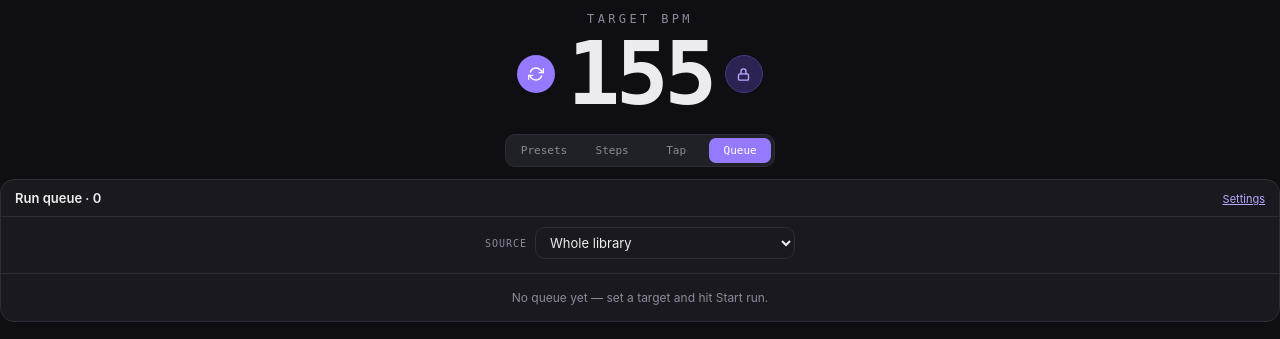
Test case: Run — the queue header reports the limit the queue was built under › shows 'built for N BPM · max ±X%' from the build response
Step 1. Click the button named "Start run" → (536, 74), box [517,55,555,93]
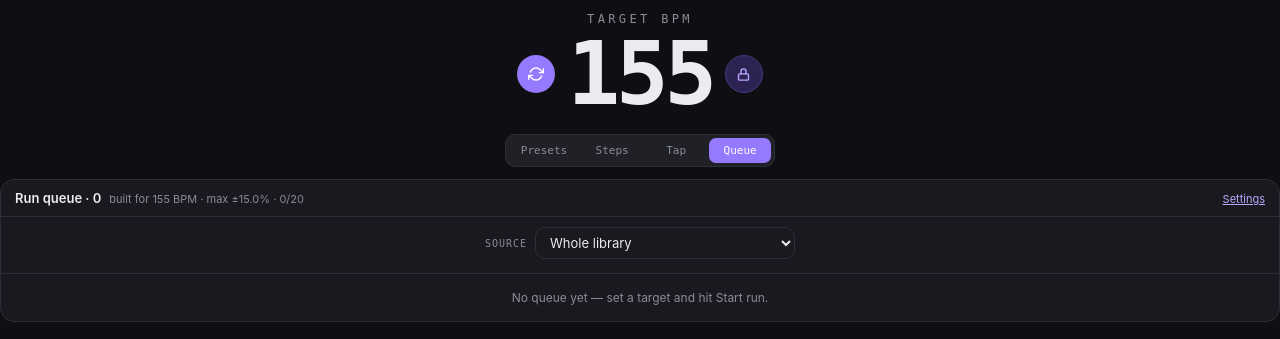
Expected: the text "built for 155 BPM · max ±15.0% · 0/20" is shown, [109,192,304,206]
